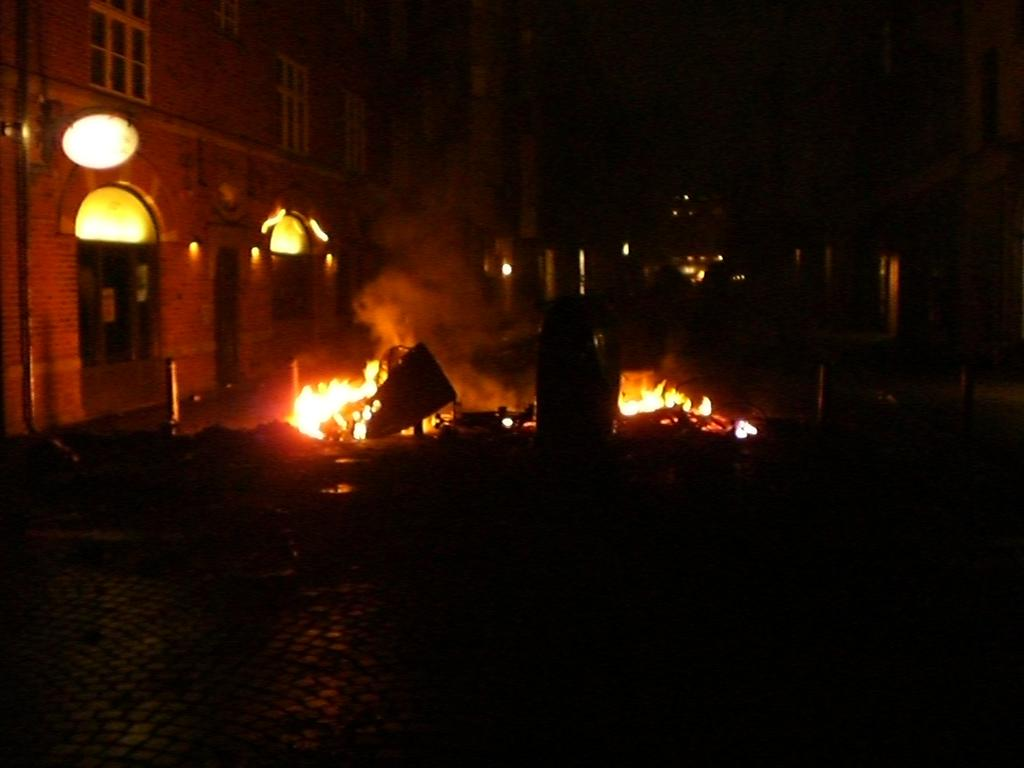fire: (292, 368, 354, 444), (632, 380, 702, 424)
